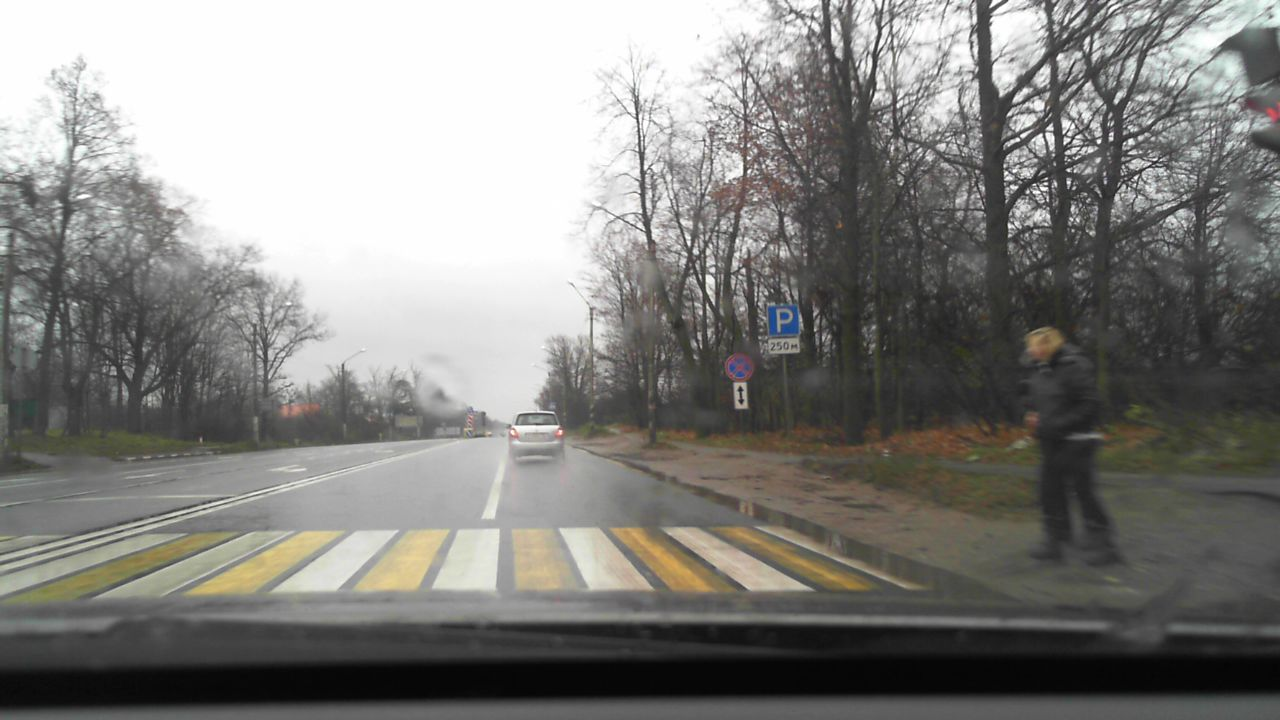No Parking: (724, 352, 753, 381)
